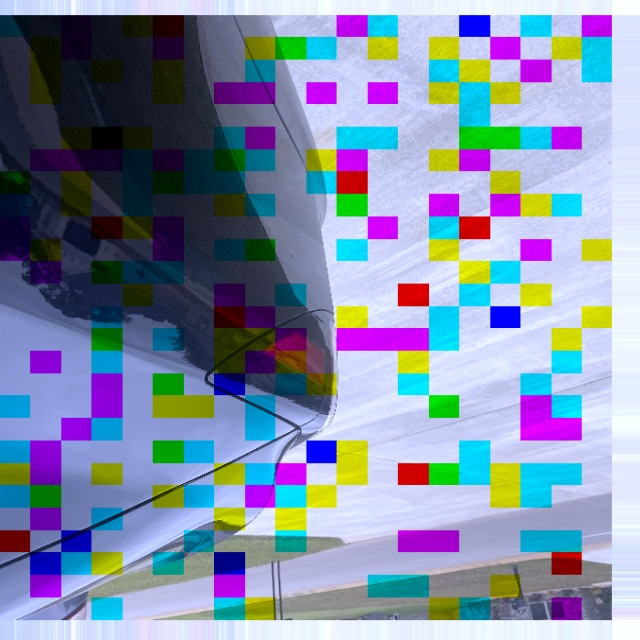reflector: (264, 331, 325, 385)
